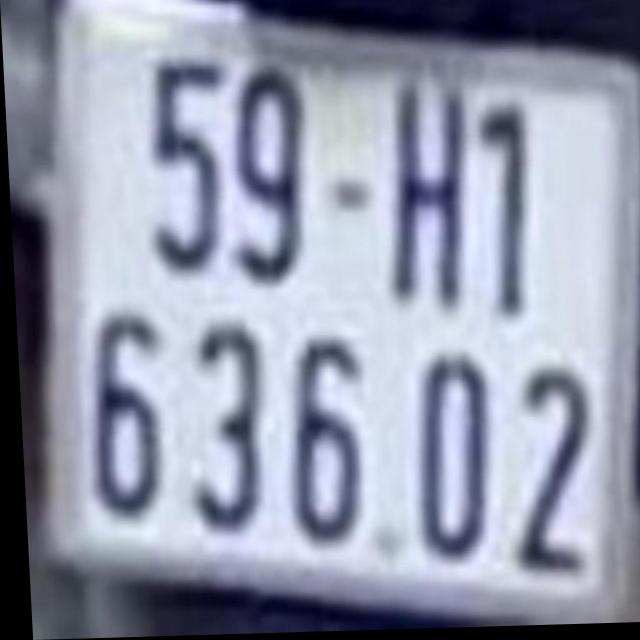0: (414, 356, 483, 563)
1: (475, 103, 531, 316)
2: (510, 368, 590, 577)
3: (181, 319, 263, 528)
5: (149, 57, 227, 273)
6: (281, 341, 363, 541), (83, 311, 162, 514)
9: (230, 69, 309, 290)
H: (383, 77, 465, 312)
